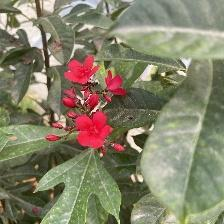jatropha: (73, 106, 115, 156)
